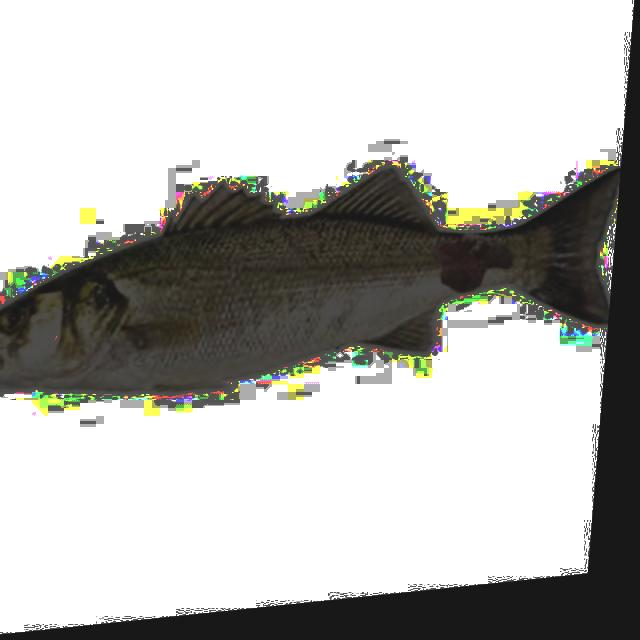Columnaris Disease: (0, 168, 618, 390)
